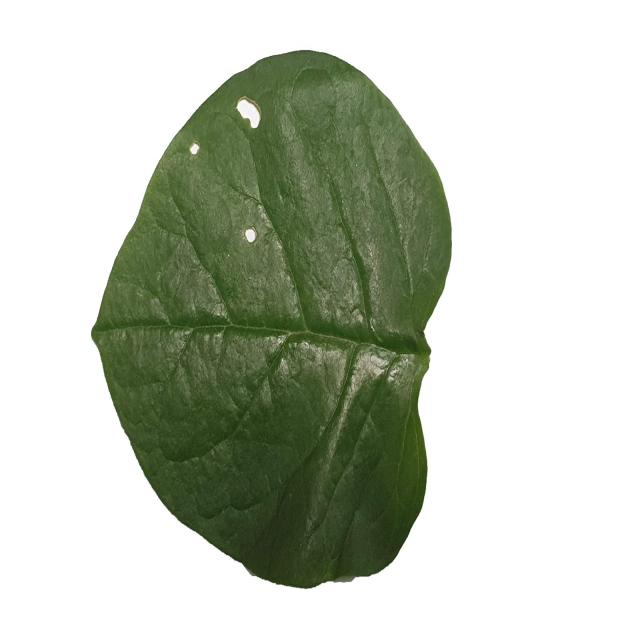Medicinal-Basale: (90, 47, 452, 585)
